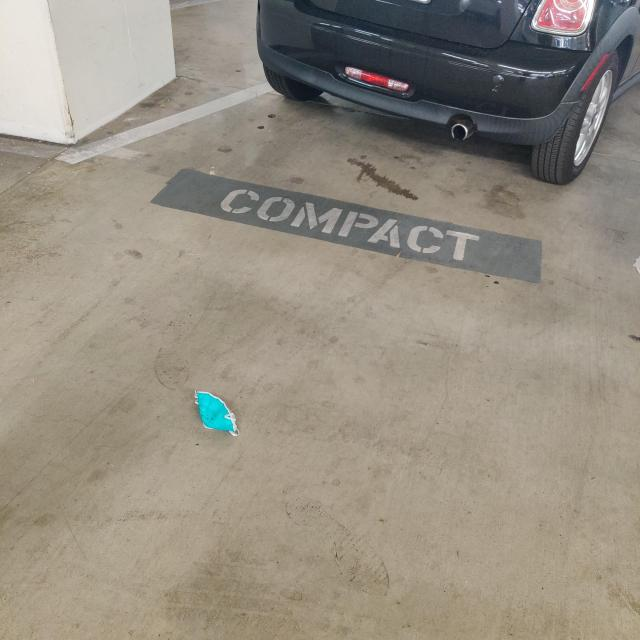litter: (192, 387, 240, 436)
